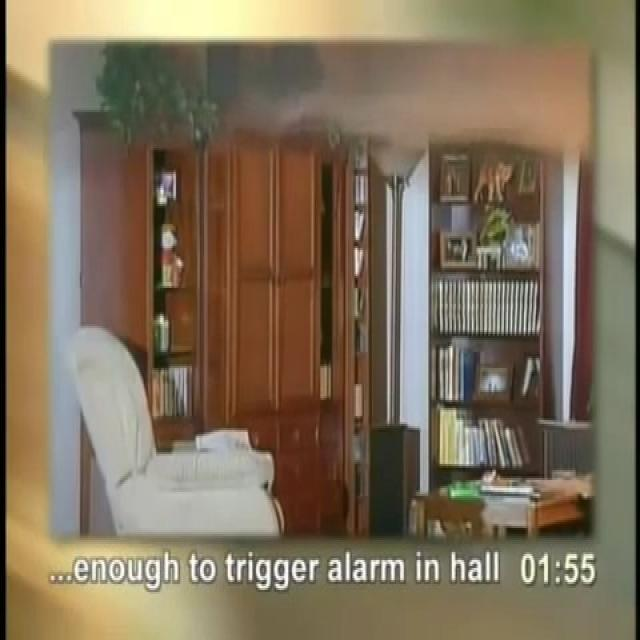Fire: (458, 34, 620, 186)
